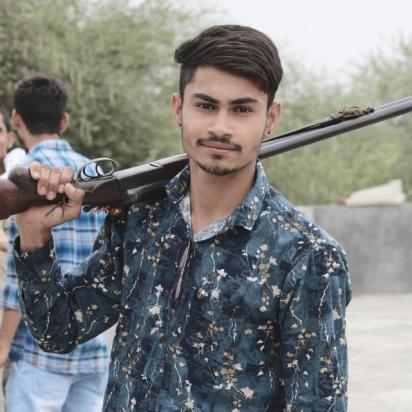Gun: (0, 95, 412, 220)
